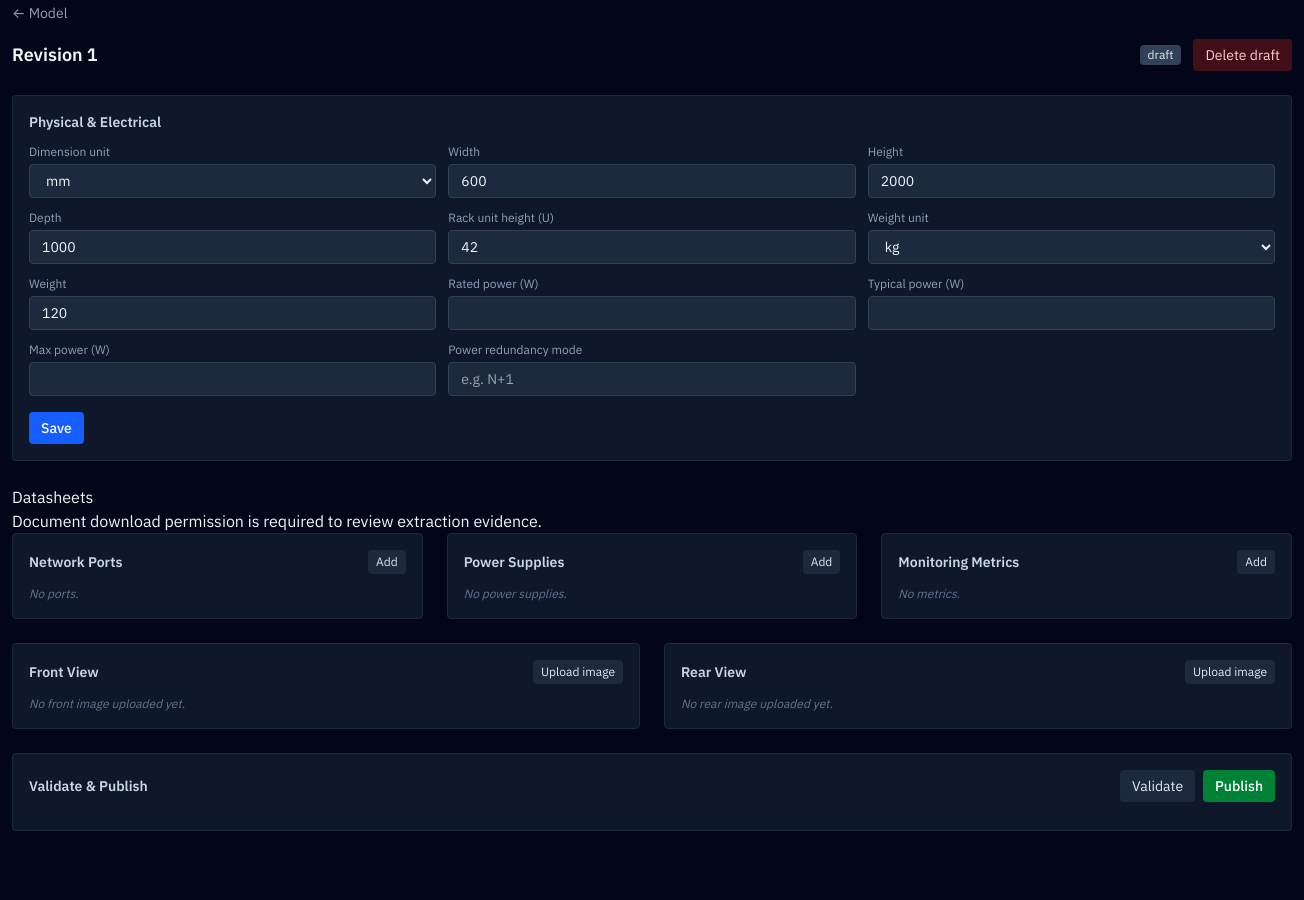
Test case: RevisionEditorPage › runs validation and surfaces errors
Check: the heading "Revision 1" is shown, box [12,41,98,69]
Click the button "Validate" at (1158, 786), box [1120,770,1195,802]
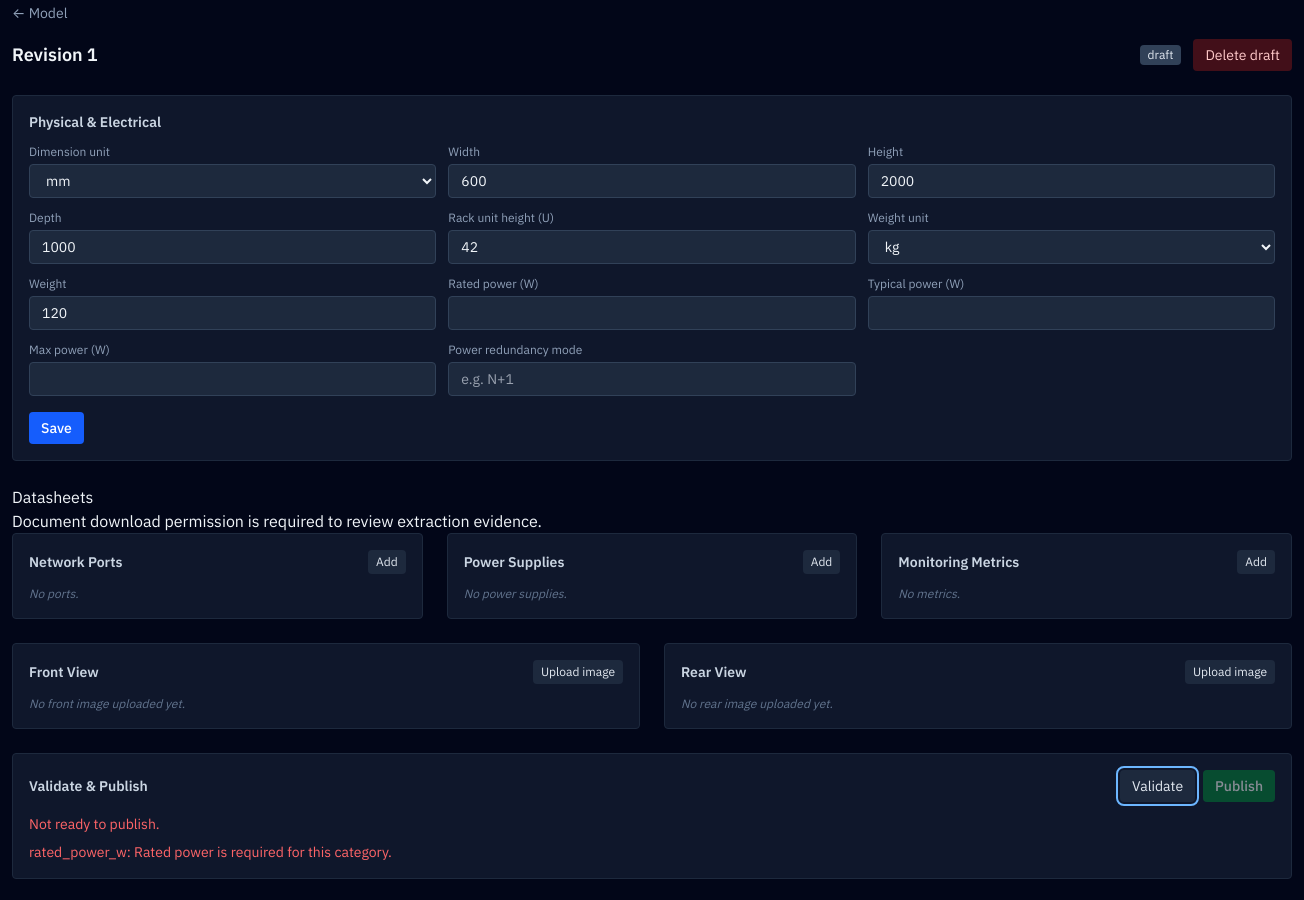
Check: the text "rated_power_w: Rated power is required for this category." is shown, box [29,843,392,861]
Check: the button "Publish" is disabled, box [1203,770,1275,802]
